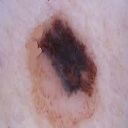Melanoma: (41, 18, 97, 93)
